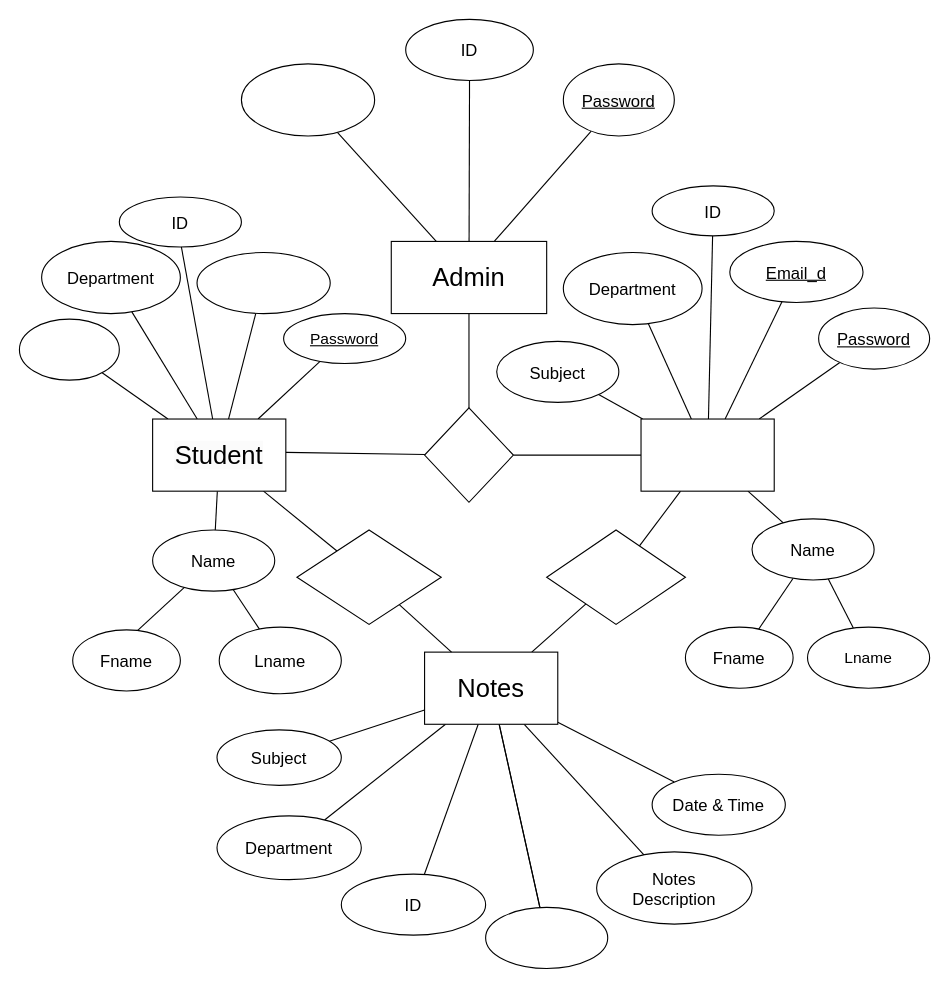
The diagram is 949 pixels wide and 988 high, and some of its shapes have lost their labels. The box of each missing label's shape, as (x1, y1, x2, y2) in pixels:
ACCESS: (296, 529, 441, 624)
ADDS: (423, 407, 513, 502)
EmaiId: (196, 251, 330, 314)
Email_Id: (240, 63, 375, 136)
Notes Title: (485, 906, 608, 968)
ROll_No: (18, 318, 119, 380)
Teacher: (640, 418, 774, 491)
UPLOAD: (546, 529, 685, 624)
